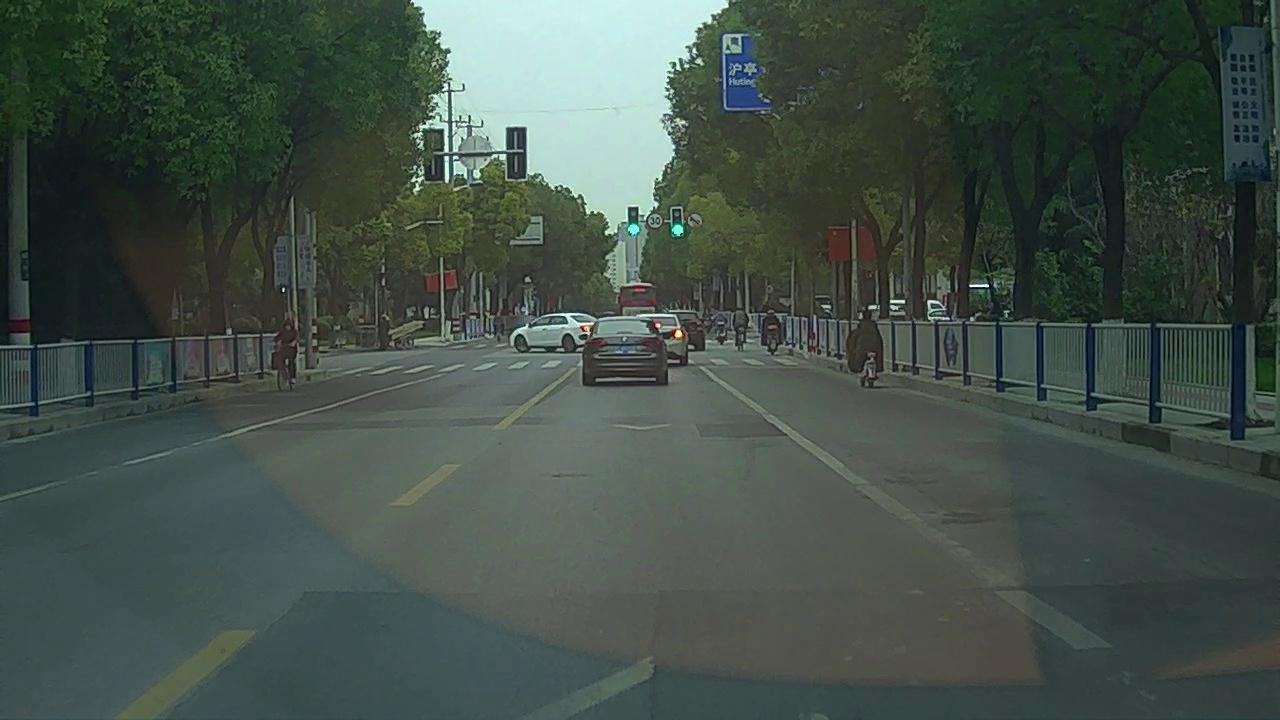traffic_light: (670, 208, 684, 237), (629, 206, 639, 235)
